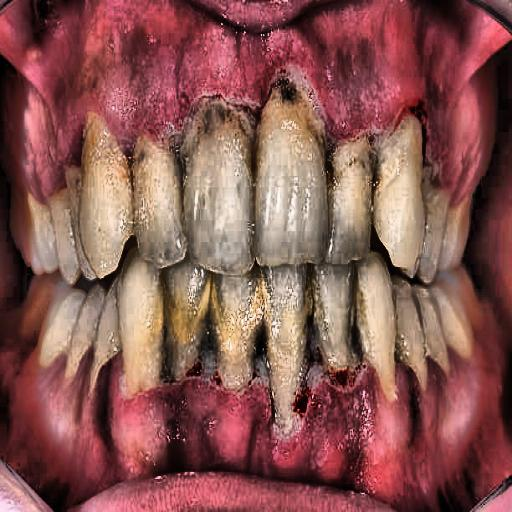Calculus: (53, 258, 503, 448), (58, 62, 472, 246)
